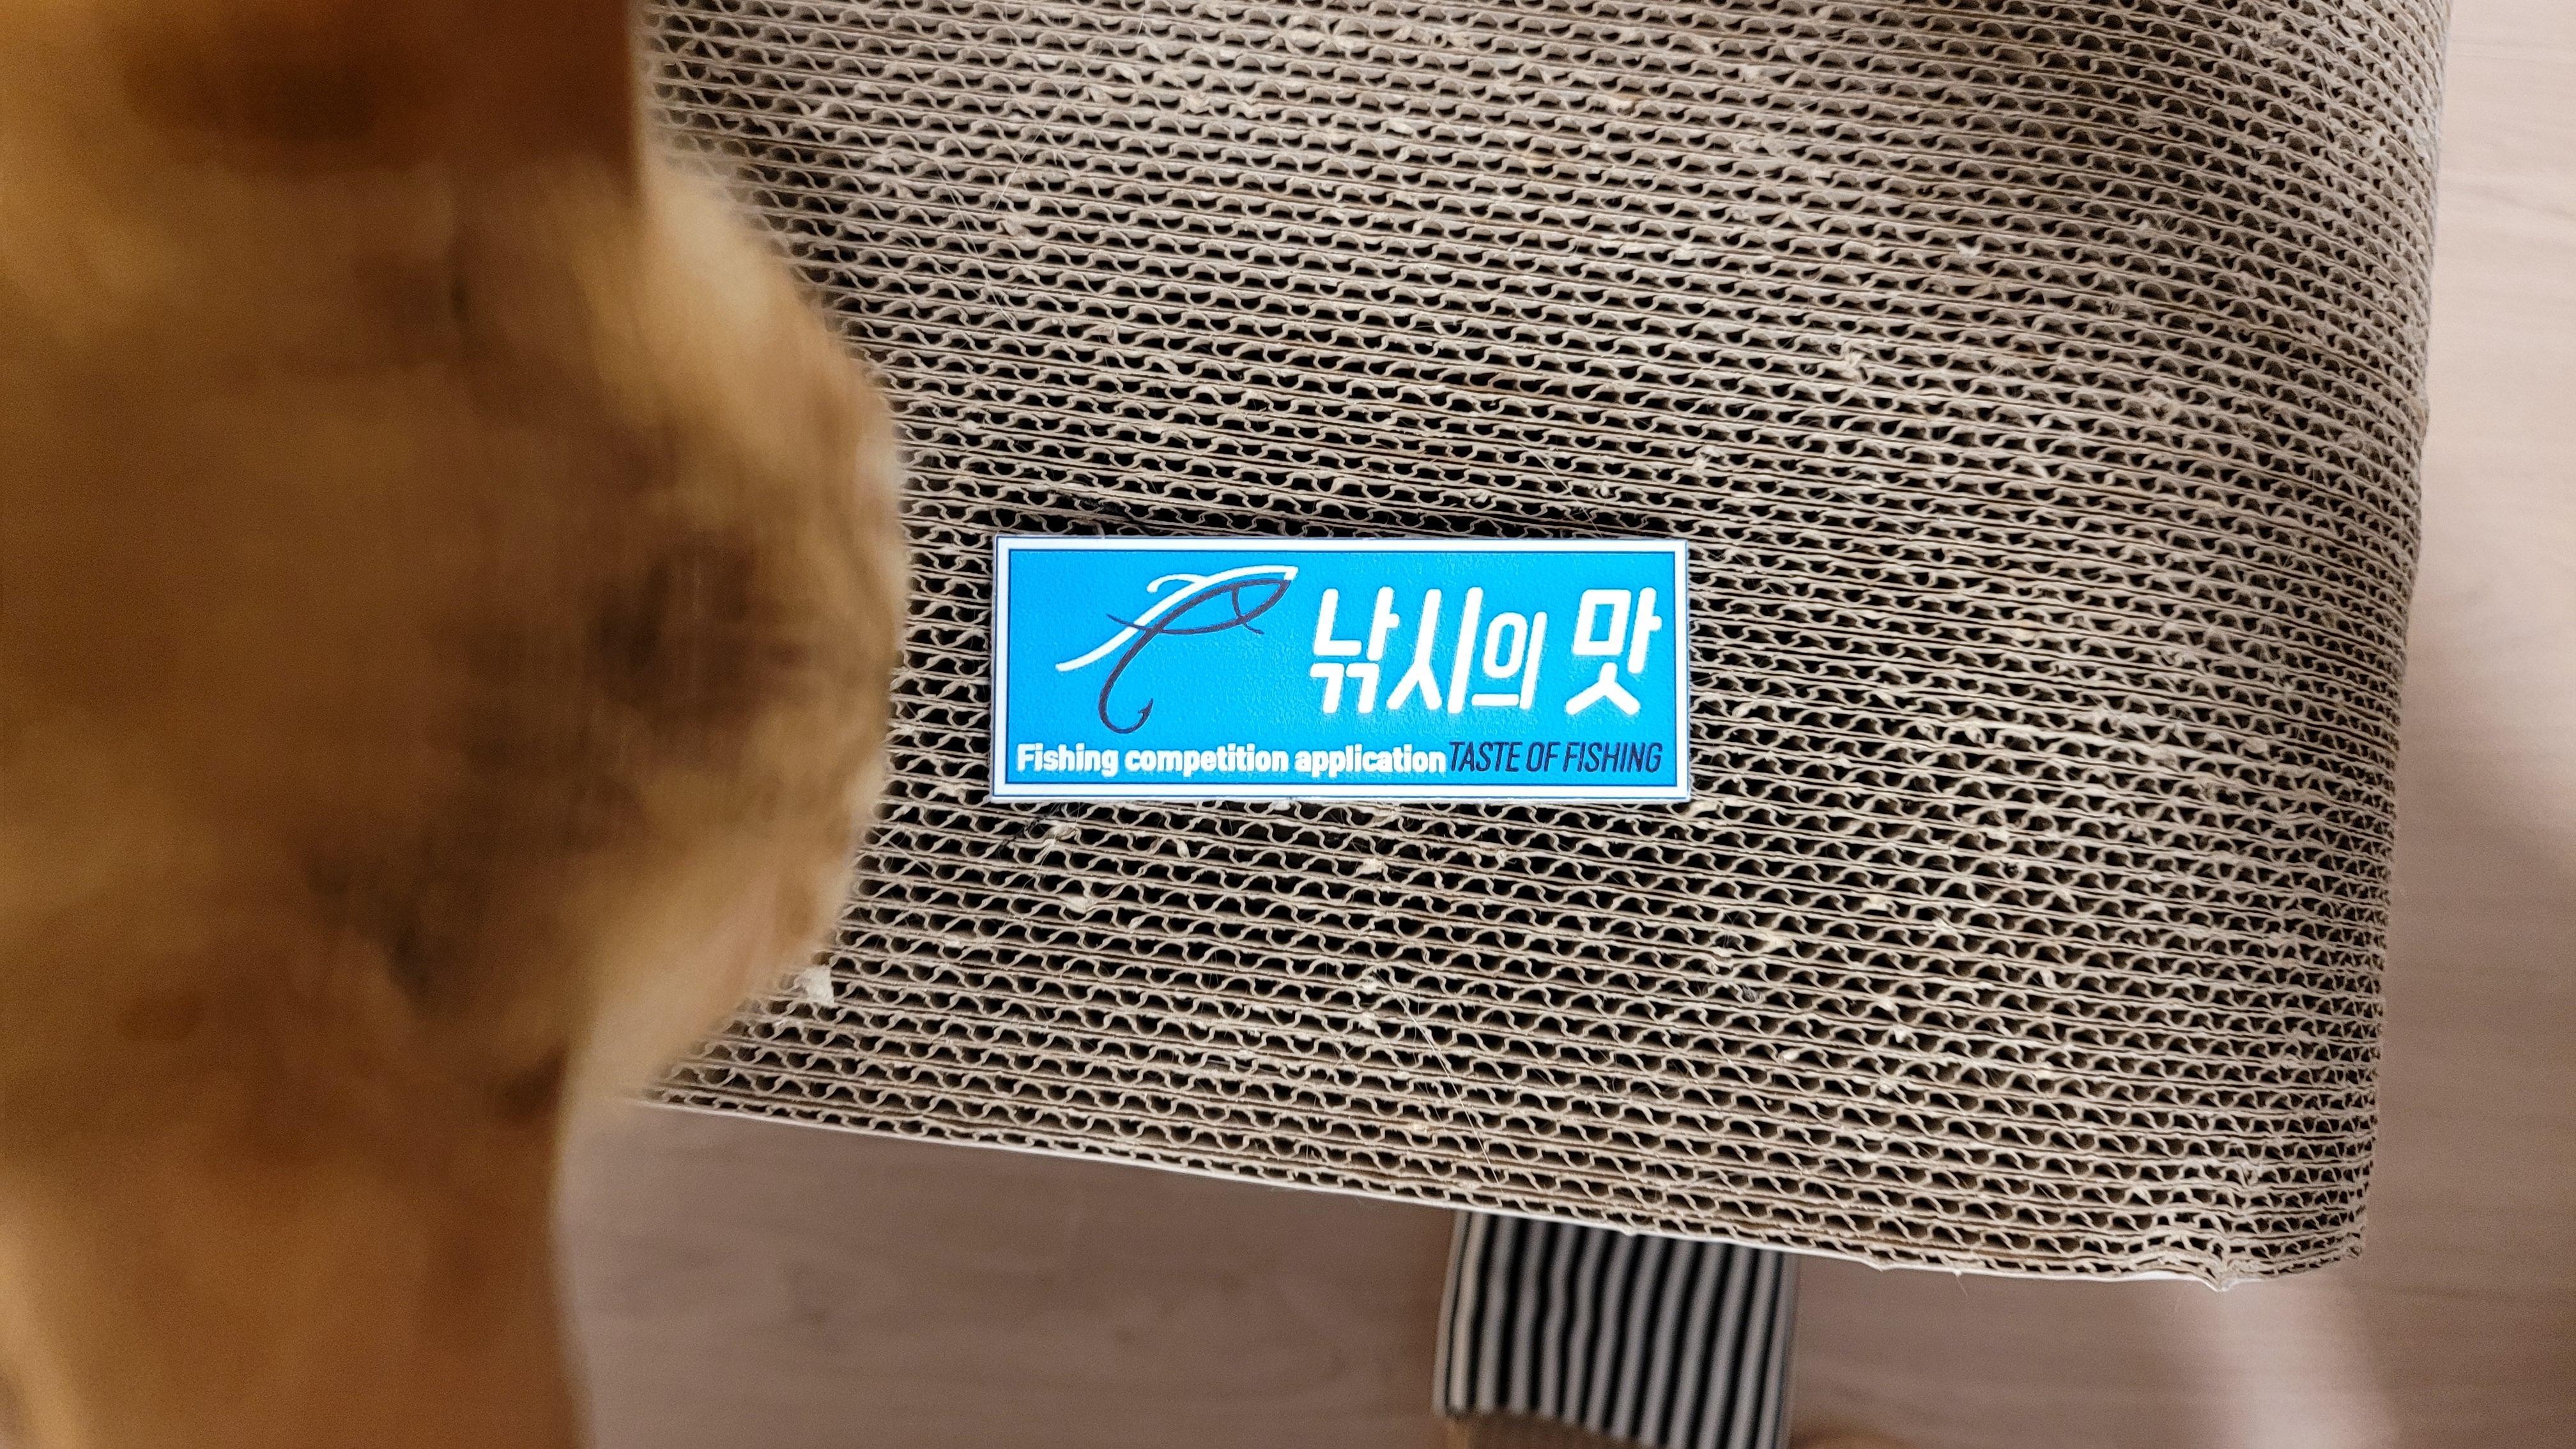tag: (996, 536, 1686, 807)
